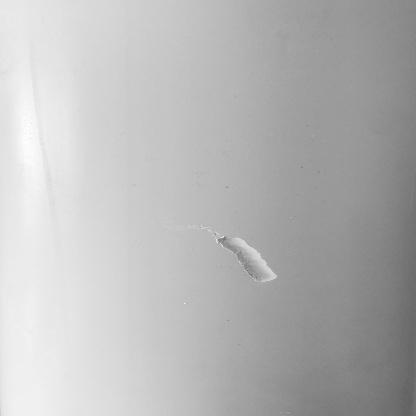sunshang: (201, 226, 289, 288)
